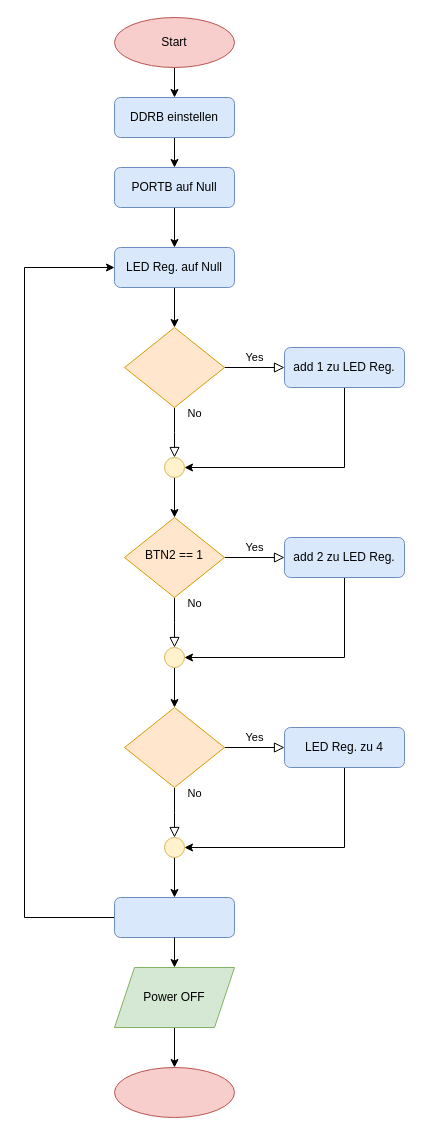
The diagram is 422 pixels wide and 1135 high, and some of its shapes have lost their labels. The shapes that lost their labels are listed below. From the top down, each one's box as (x1, y1, x2, y2) in pixels, then its label:
(124, 326, 224, 408): BTN1 == 1
(124, 706, 224, 788): LED Reg. == 3
(114, 896, 234, 938): OUT zu LED Reg
(114, 1066, 234, 1118): Ende
